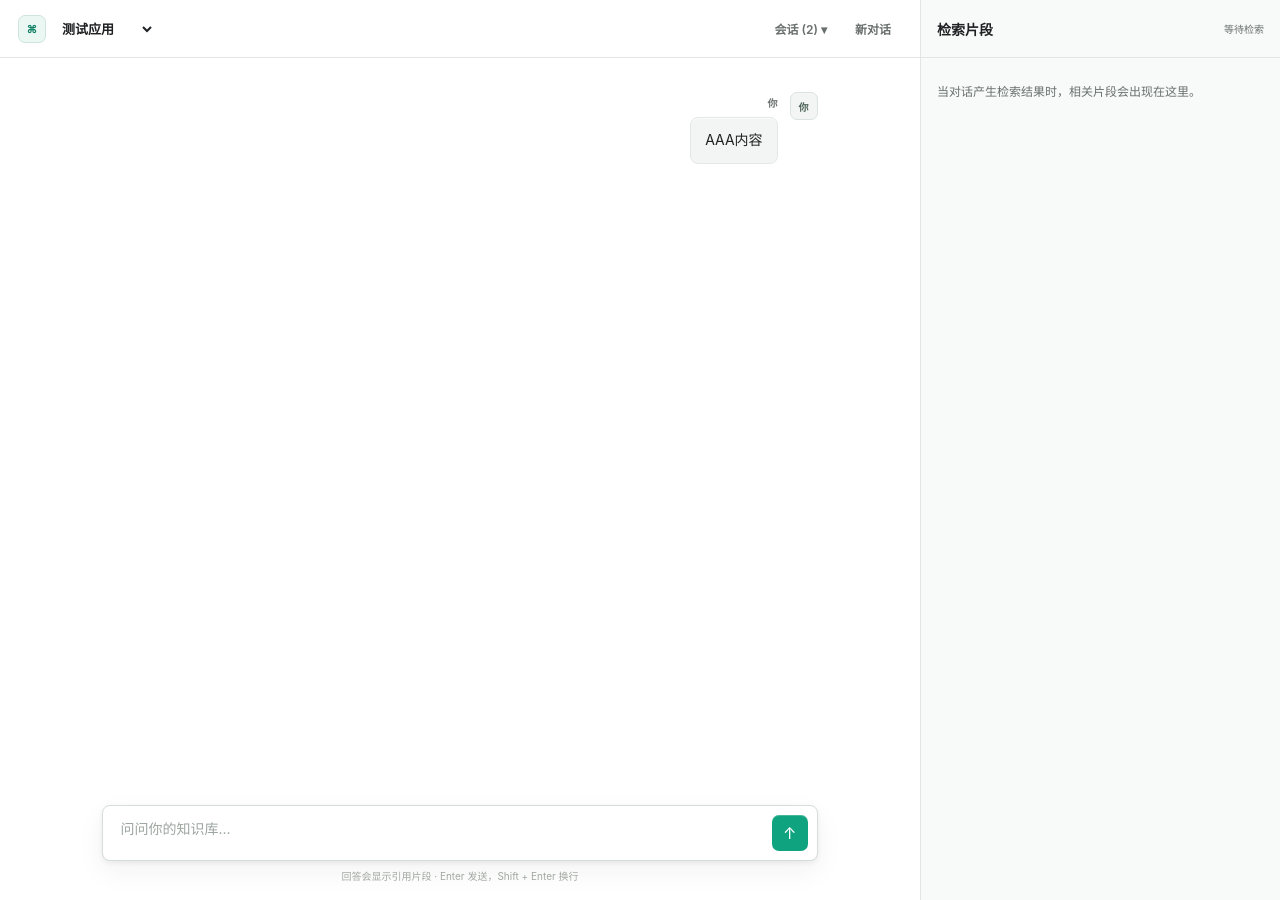
Test case: ChatView conversation list › switches to the selected conversation and restores its messages
Click the button with aria-label "会话列表" at (801, 28), box [764,12,838,46]
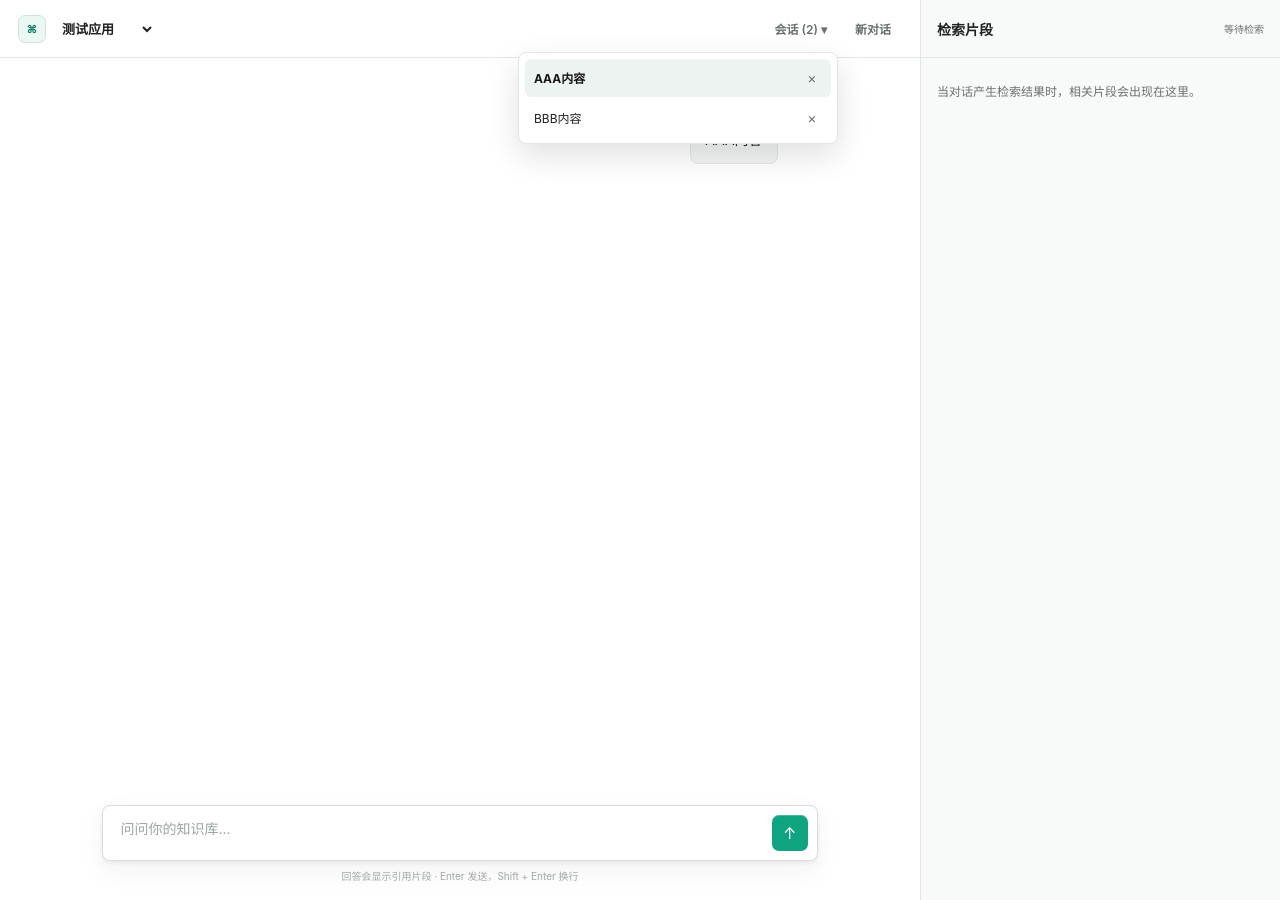
Click the button with class "conv-item" showing "BBB内容 ×" at (558, 118), box [534,108,822,128]
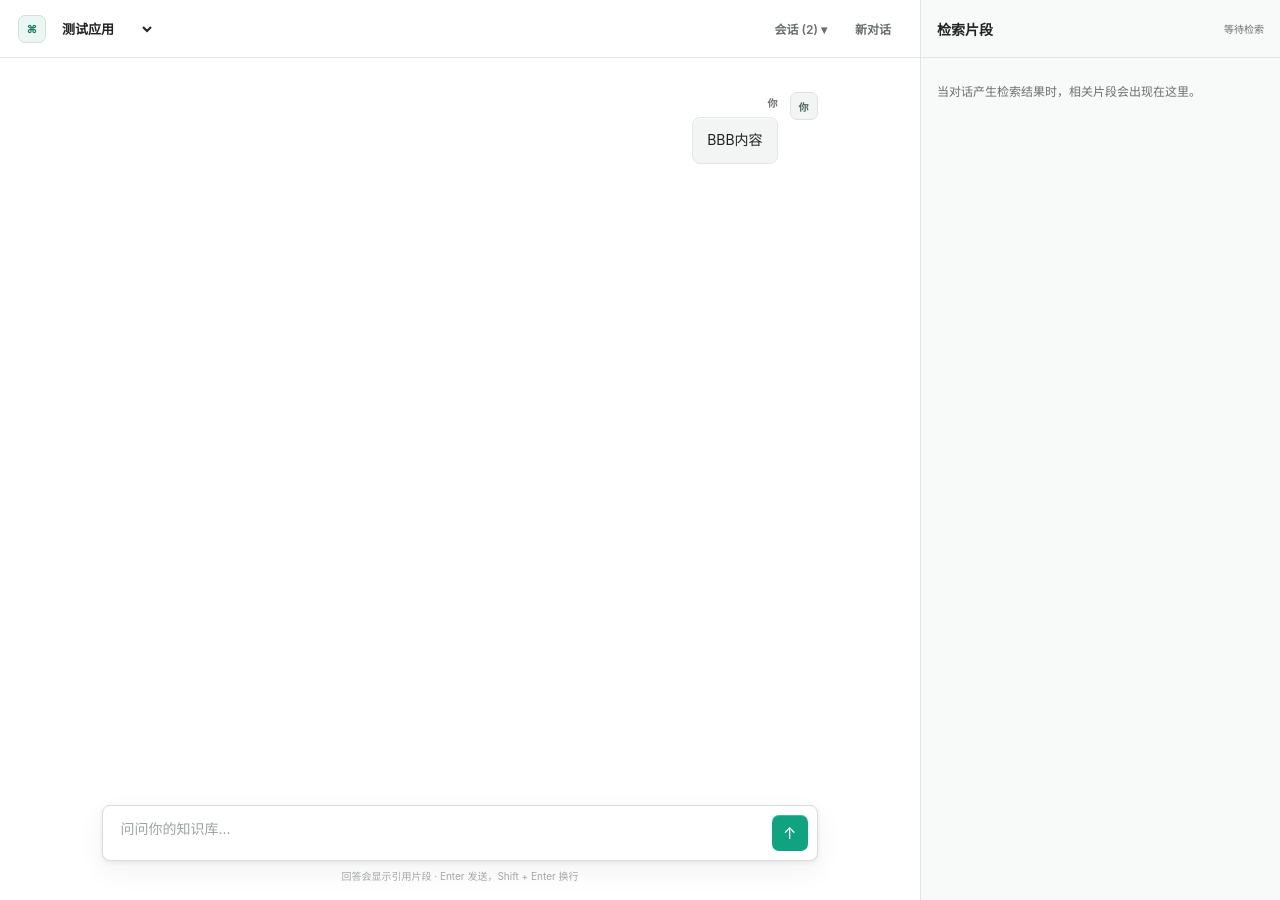
expect the text "BBB内容" is shown: met, box [692,117,778,164]
expect the text "AAA内容" is gone: met
